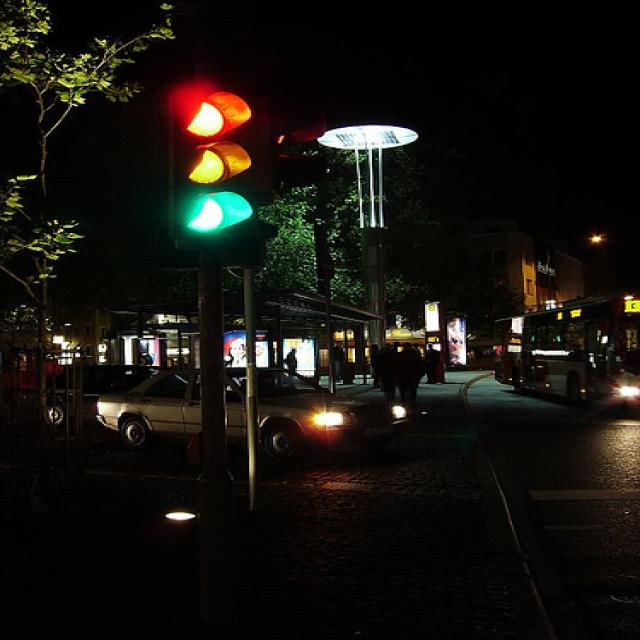Bus: (495, 273, 640, 440)
People: (372, 336, 420, 428), (275, 329, 330, 391), (412, 335, 446, 411)
car: (93, 370, 381, 465), (0, 339, 133, 461)
